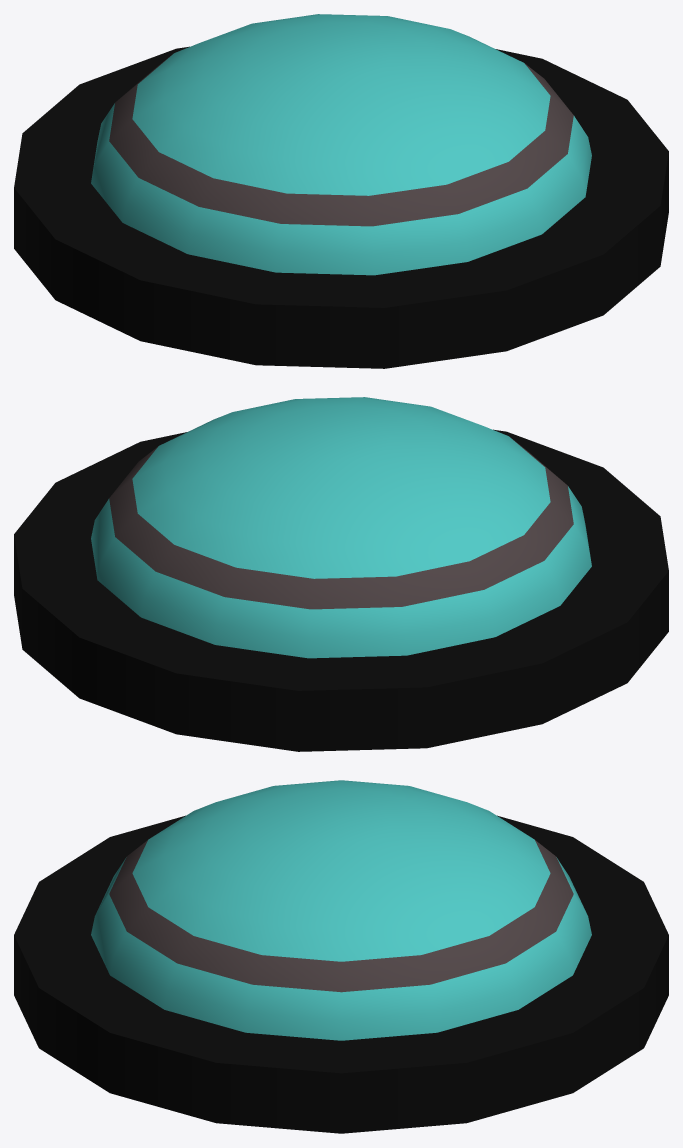
Rendered from SM_CandyButton.fbx.
3 views of the same model, one above another, from view 1: azimuth 30°, elevation 25°; view 2: azimuth 150°, elevation 25°; view 3: azimuth 270°, elevation 25° (orthographic).
Parts seen in each view (by area): view 1: SM_CandyButton; view 2: SM_CandyButton; view 3: SM_CandyButton.
Boxes of the visible parts, bbox=[...] form: SM_CandyButton: bbox=[14, 14, 668, 368]; SM_CandyButton: bbox=[14, 397, 668, 751]; SM_CandyButton: bbox=[14, 780, 668, 1133].
Bounding box in the file's own units: 19.65 × 5.79 × 19.65.
